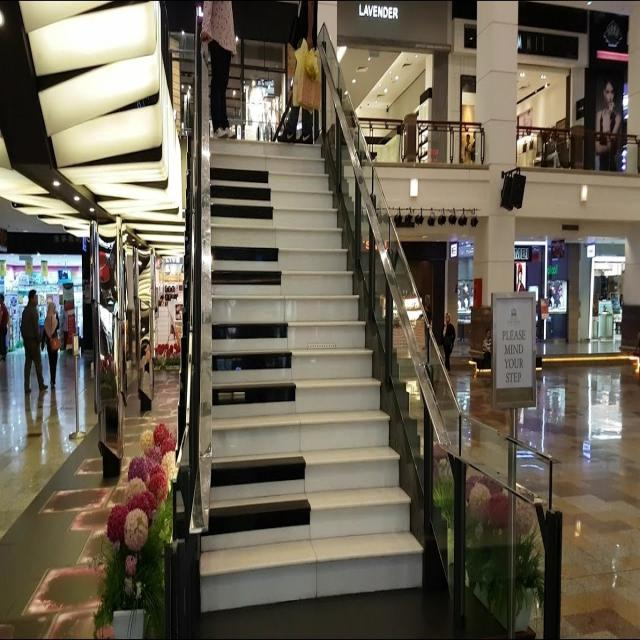Stairs: (171, 0, 570, 640)
